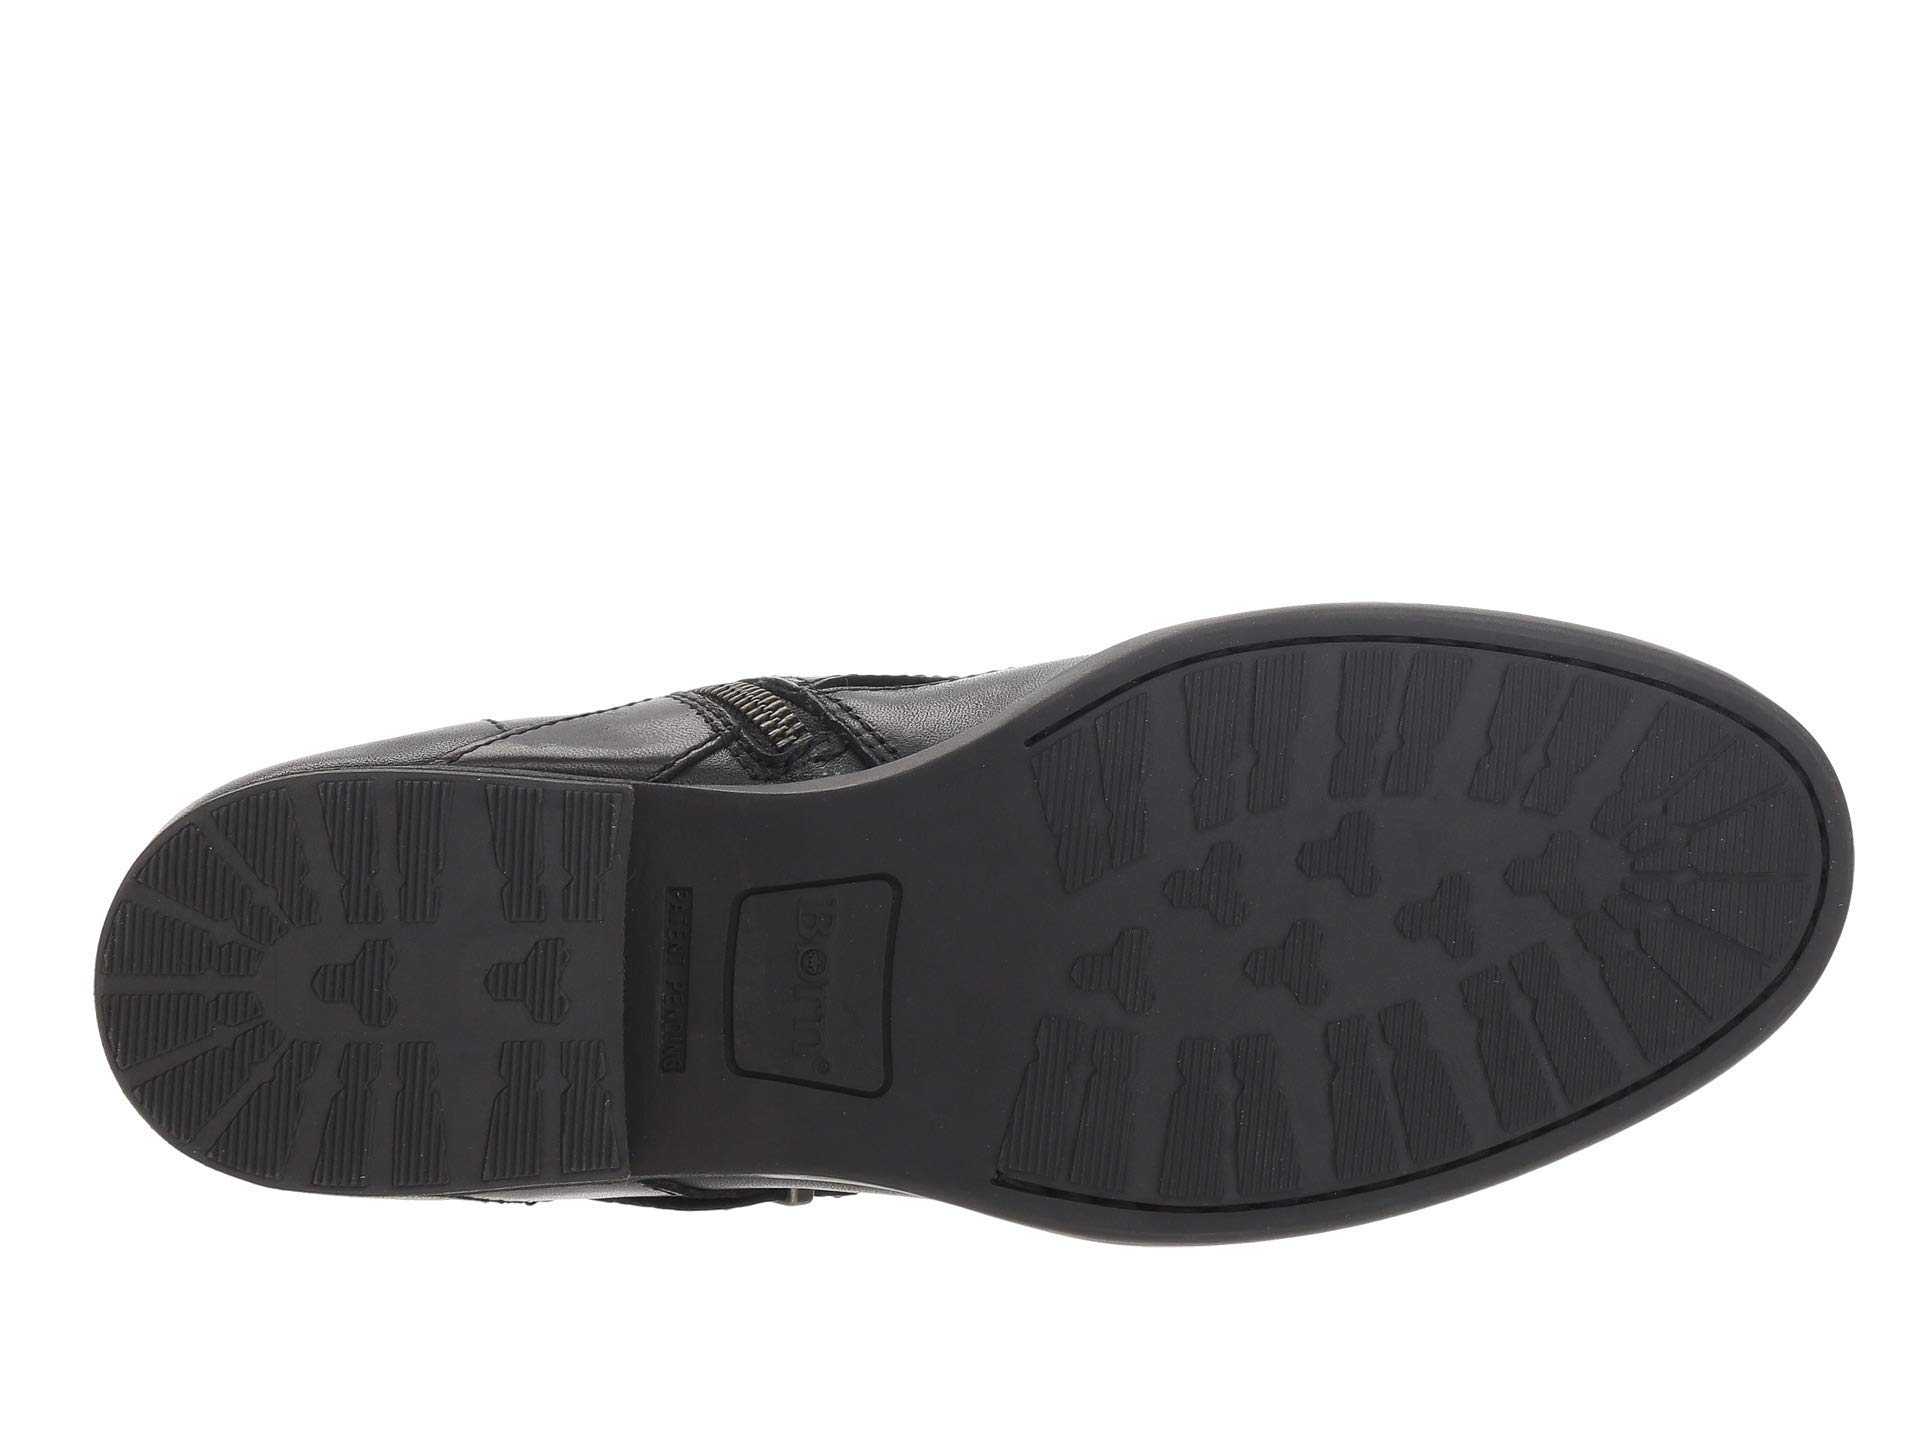bowtie: (231, 781, 632, 1210), (1140, 653, 1491, 1026), (1503, 649, 1835, 980), (1601, 732, 1828, 970), (990, 1003, 1185, 1243), (1293, 977, 1491, 1196), (194, 1009, 393, 1215), (1311, 632, 1488, 821), (203, 767, 396, 933), (481, 768, 627, 938)
circle: (652, 858, 930, 1118)
line: (231, 781, 632, 1210), (1140, 653, 1491, 1026), (1503, 649, 1835, 980), (1601, 732, 1828, 970), (990, 1003, 1185, 1243), (1293, 977, 1491, 1196), (194, 1009, 393, 1215), (1311, 632, 1488, 821), (203, 767, 396, 933), (481, 768, 627, 938), (451, 908, 574, 1050), (1482, 808, 1601, 939), (1150, 821, 1267, 953), (296, 929, 431, 1039), (1284, 797, 1400, 911)
quad: (652, 858, 930, 1118)
star: (231, 781, 632, 1210), (1140, 653, 1491, 1026), (1503, 649, 1835, 980), (451, 908, 574, 1050), (1482, 808, 1601, 939), (1150, 821, 1267, 953), (296, 929, 431, 1039), (1284, 797, 1400, 911)
text: (652, 858, 930, 1118)
